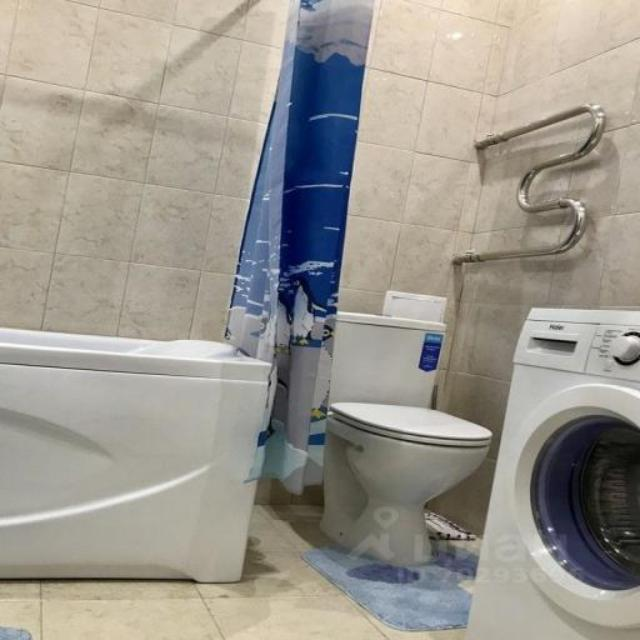Washing-Machine: (469, 306, 639, 638)
